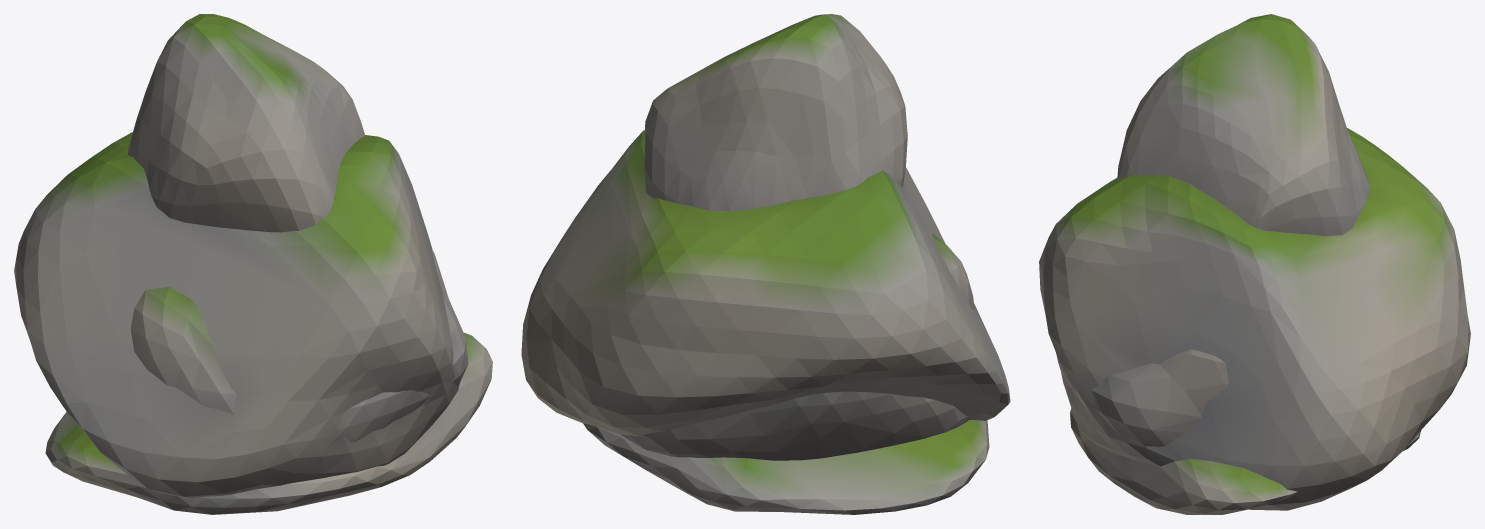
Rendered from scenery.glb.
3 views of the same model, side by side, from view 1: azimuth 30°, elevation 25°; view 2: azimuth 150°, elevation 25°; view 3: azimuth 270°, elevation 25° (orthographic). The views are drawn at different scales.
Visible parts, largest first — view 1: RockBoulder, RockTall, RockFlat, RockRound; view 2: RockBoulder, RockTall, RockFlat, RockRound; view 3: RockBoulder, RockTall, RockRound, RockFlat.
Boxes of the visible parts, left/top/right/bottom form: RockBoulder: left=14, top=132, right=459, bottom=497; RockTall: left=128, top=14, right=365, bottom=232; RockFlat: left=45, top=333, right=492, bottom=514; RockRound: left=131, top=249, right=468, bottom=446; RockBoulder: left=521, top=130, right=1010, bottom=436; RockTall: left=644, top=14, right=907, bottom=210; RockFlat: left=583, top=420, right=989, bottom=514; RockRound: left=620, top=233, right=974, bottom=460; RockBoulder: left=1039, top=128, right=1470, bottom=510; RockTall: left=1117, top=14, right=1369, bottom=236; RockRound: left=1056, top=349, right=1228, bottom=446; RockFlat: left=1070, top=408, right=1420, bottom=514.
Size of the model in its own units: 1.18 by 1.12 by 1.06.
